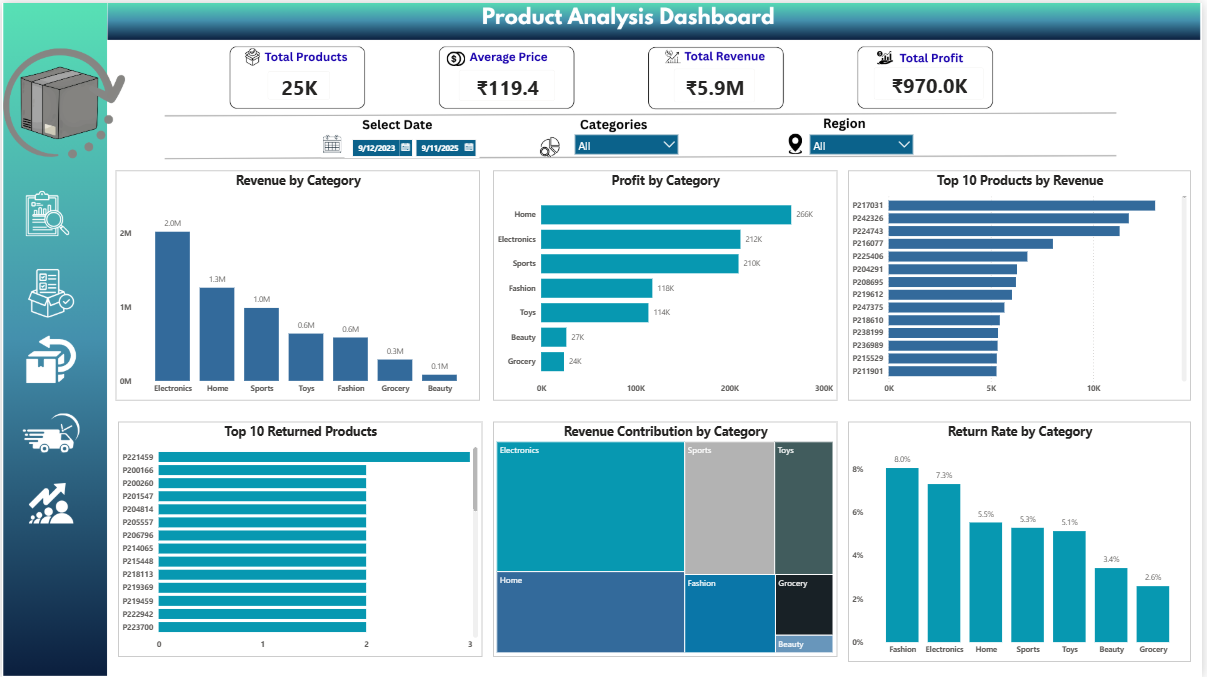

What the dashboard file says about the page in this screenshot:
{"tool":"powerbi","page":{"name":"Product Analysis","canvas":[1920,1080],"ordinal":2},"visuals":[{"type":"cardVisual","fields":{"Data":["products.Total Products"]},"box":[420,104,110,56],"z":0},{"type":"cardVisual","fields":{"Data":["orders.Avg Product Price"]},"box":[726,102,164,60],"z":1000},{"type":"cardVisual","fields":{"Data":["orders.Total Revenue"]},"box":[1070,100,140,64],"z":2000},{"type":"slicer","fields":{"Values":["Date_Table.Date"]},"box":[548,208,216,40],"z":2500},{"type":"cardVisual","fields":{"Data":["orders.Total Profit"]},"box":[1390,98,186,62],"z":3000},{"type":"slicer","fields":{"Values":["products.category"]},"box":[906,200,186,54],"z":5000},{"type":"slicer","fields":{"Values":["customers.region"]},"box":[1282,200,186,54],"z":6000},{"type":"clusteredColumnChart","title":"Revenue by Category","fields":{"Y":["orders.Total Revenue"],"Category":["products.category"]},"box":[182,268,582,368],"z":6001},{"type":"clusteredBarChart","title":"Profit by Category","fields":{"Y":["orders.Total Profit"],"Category":["products.category"]},"box":[786,268,550,368],"z":6002},{"type":"clusteredBarChart","title":"Top 10 Products by Revenue","fields":{"Category":["orders.product_id"],"Y":["orders.Total Revenue"]},"box":[1354,268,548,368],"z":6003},{"type":"clusteredBarChart","title":"Top 10 Returned Products","fields":{"Category":["orders.product_id"],"Y":["Returns.Returned Orders"]},"box":[186,670,582,376],"z":6004},{"type":"clusteredColumnChart","title":"Return Rate by Category","fields":{"Category":["products.category"],"Y":["Returns.Return Rate"]},"box":[1354,670,548,384],"z":6005},{"type":"treemap","title":"Revenue Contribution by Category","fields":{"Values":["Returns.Revenue Contribution %"],"Group":["products.category"]},"box":[786,670,550,376],"z":6006}]}

Visuals, with their boxes in screenshot pixels (x1, y1, x2, y2), scaled from the page's 1920x1080 canvas onto the 1207x677 screenshot:
cardVisual - products.Total Products: bbox=[264, 65, 333, 100]
cardVisual - orders.Avg Product Price: bbox=[456, 64, 559, 102]
cardVisual - orders.Total Revenue: bbox=[673, 63, 761, 103]
slicer - Date_Table.Date: bbox=[344, 130, 480, 155]
cardVisual - orders.Total Profit: bbox=[874, 61, 991, 100]
slicer - products.category: bbox=[570, 125, 686, 159]
slicer - customers.region: bbox=[806, 125, 923, 159]
"Revenue by Category" clusteredColumnChart: bbox=[114, 168, 480, 399]
"Profit by Category" clusteredBarChart: bbox=[494, 168, 840, 399]
"Top 10 Products by Revenue" clusteredBarChart: bbox=[851, 168, 1196, 399]
"Top 10 Returned Products" clusteredBarChart: bbox=[117, 420, 483, 656]
"Return Rate by Category" clusteredColumnChart: bbox=[851, 420, 1196, 661]
"Revenue Contribution by Category" treemap: bbox=[494, 420, 840, 656]
